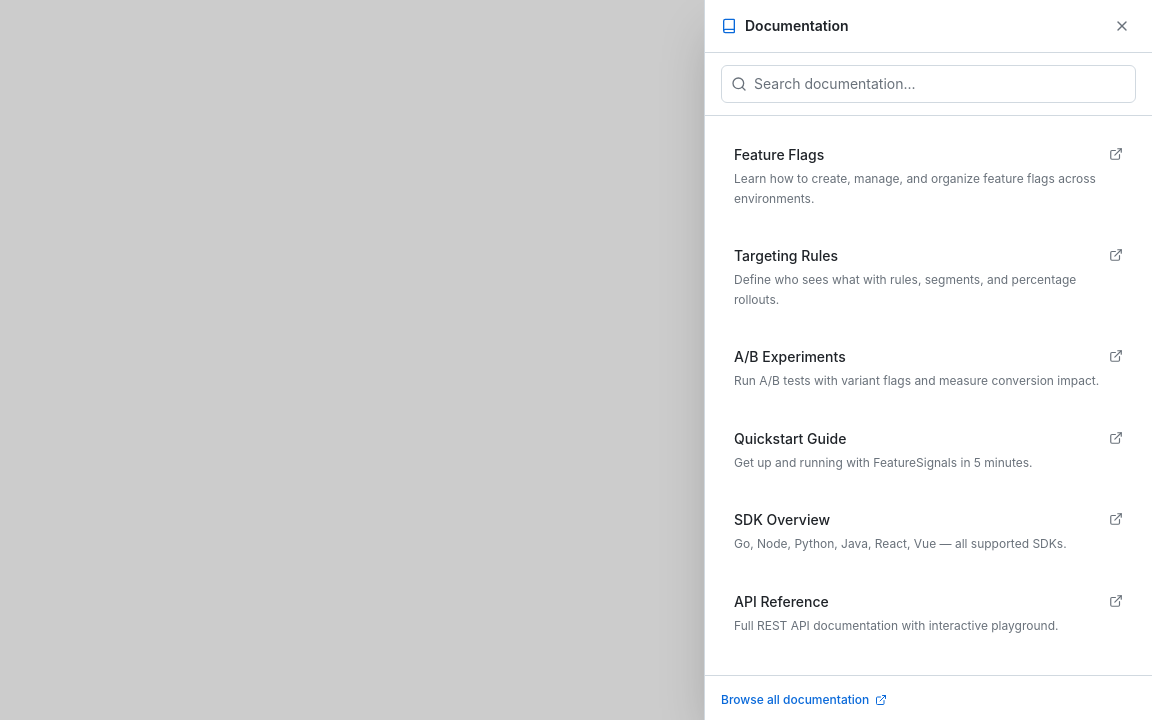
Test case: DocsPanel › filters docs by search query
Type "sdk" into the field with placeholder "Search documentation..." at (928, 84), box 721,65 -> 1136,103
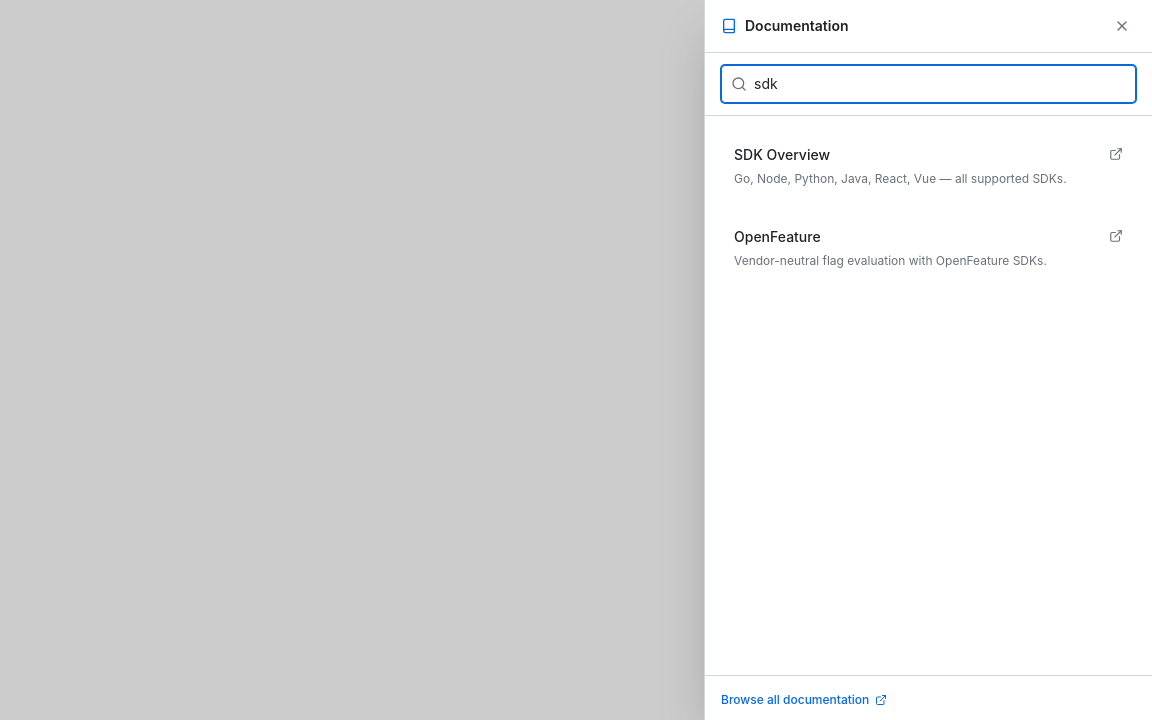
Expected: the heading "SDK Overview" is shown, 734,145 -> 830,165
Now the link "Feature Flags" is gone
